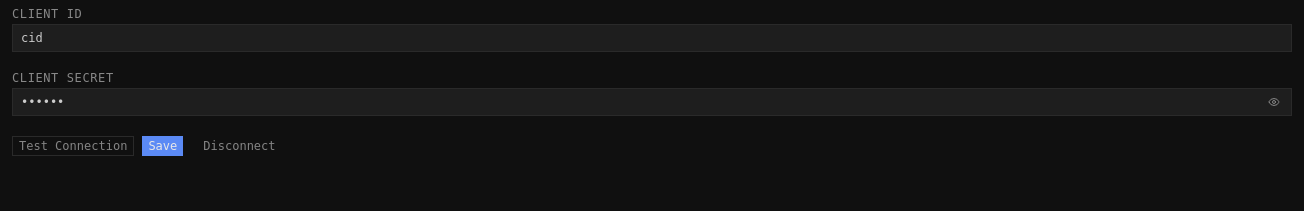
Test: ApiCredentialAccessCard › shows a success confirmation after saving credentials
Click the button "Save" at [163, 146], box [142, 136, 183, 156]
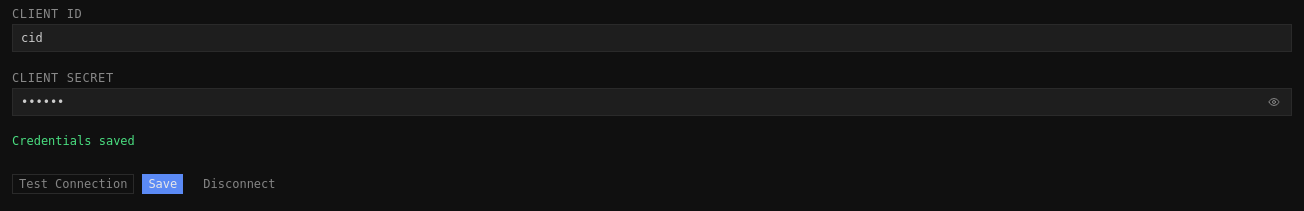
Now the text "Credentials saved" is shown, box [12, 134, 135, 148]
